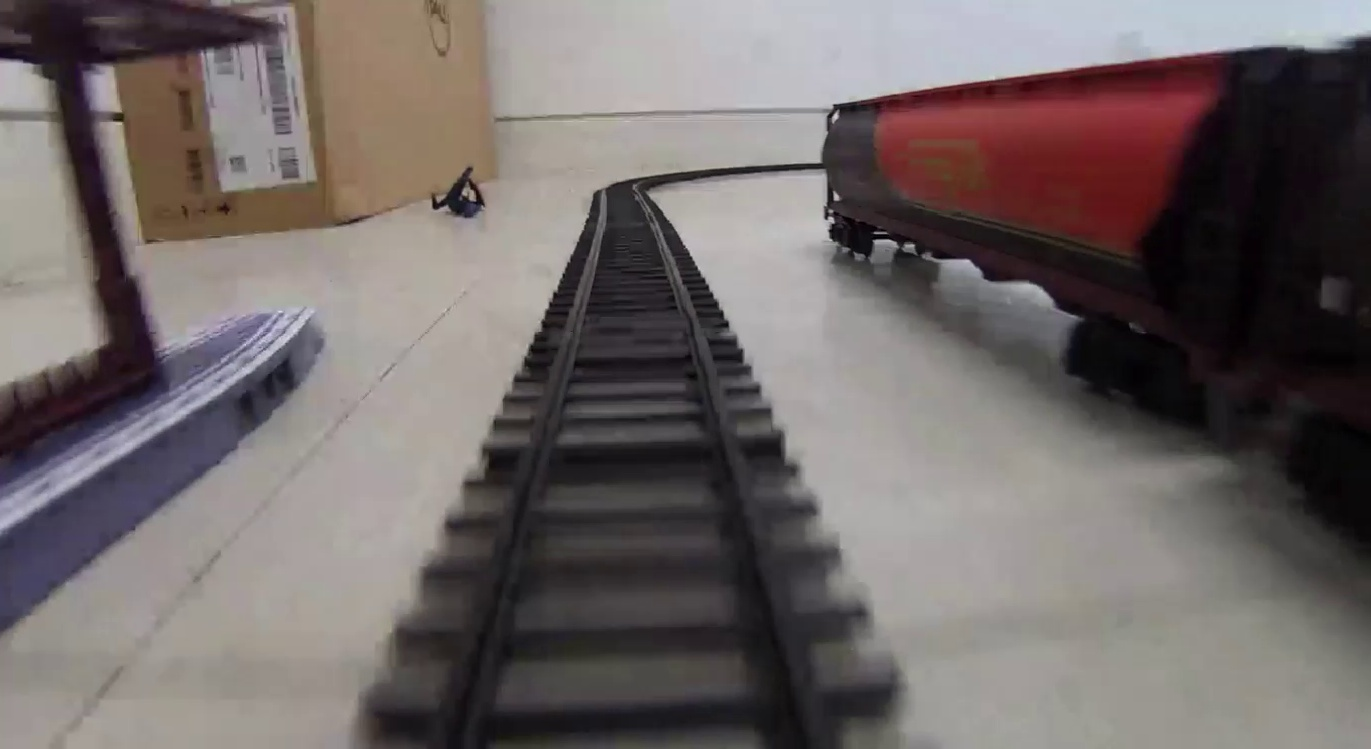people: (431, 164, 489, 218)
